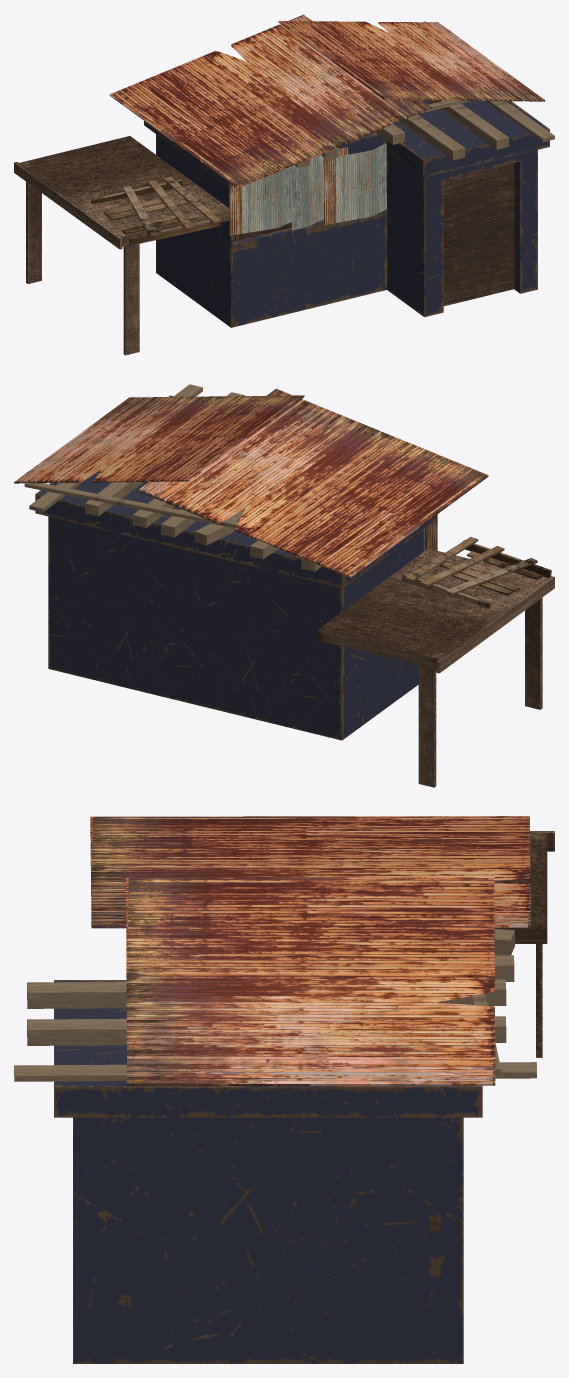
Rendered from House v1.glb.
3 renders of one model, top to bottom at view 1: azimuth 30°, elevation 25°; view 2: azimuth 150°, elevation 25°; view 3: azimuth 270°, elevation 25°, orthographic. The views are drawn at different scales.
Parts seen in each view (by area): view 1: Upper House Base, Plane.004, 1st floor left Platform, Plane.005, Plane.003, Upper Base Wood Support, Plane.002, Plane.001, wood upper 2.004, wood upper 2.005, wood upper 2; view 2: Upper House Base, Plane.004, 1st floor left Platform, Plane.005, Upper Base Wood Support, wood upper 2.008, wood upper 2.004, wood upper 2, wood upper 2.001, wood upper 2.005, wood upper 2.003; view 3: Upper House Base, Plane.005, Plane.004, 1st floor left Platform, wood upper 2.005, wood upper 2.004, wood upper 2.
Boxes of the visible parts, x1,y1,x2,y2 form: Upper House Base: [144, 100, 549, 327]; Plane.004: [109, 14, 431, 188]; 1st floor left Platform: [14, 136, 229, 355]; Plane.005: [278, 21, 545, 101]; Plane.003: [323, 143, 386, 224]; Upper Base Wood Support: [91, 177, 220, 245]; Plane.002: [229, 166, 292, 235]; Plane.001: [291, 147, 348, 230]; wood upper 2.004: [428, 100, 508, 149]; wood upper 2.005: [399, 114, 465, 160]; wood upper 2: [485, 101, 554, 141]; Upper House Base: [35, 395, 436, 740]; Plane.004: [138, 388, 488, 577]; 1st floor left Platform: [317, 548, 554, 787]; Plane.005: [14, 395, 304, 483]; Upper Base Wood Support: [402, 537, 551, 608]; wood upper 2.008: [24, 482, 238, 527]; wood upper 2.004: [85, 392, 244, 516]; wood upper 2: [29, 384, 202, 512]; wood upper 2.001: [194, 509, 244, 545]; wood upper 2.005: [132, 498, 174, 527]; wood upper 2.003: [161, 509, 196, 537]; Upper House Base: [54, 980, 482, 1363]; Plane.005: [126, 877, 495, 1086]; Plane.004: [90, 816, 530, 928]; 1st floor left Platform: [494, 831, 554, 1057]; wood upper 2.005: [27, 979, 506, 1008]; wood upper 2.004: [27, 1016, 506, 1045]; wood upper 2: [14, 1062, 536, 1081].
Size of the model in its own units: 18.22 by 9.13 by 12.07.
6 materials, 6 textured.
